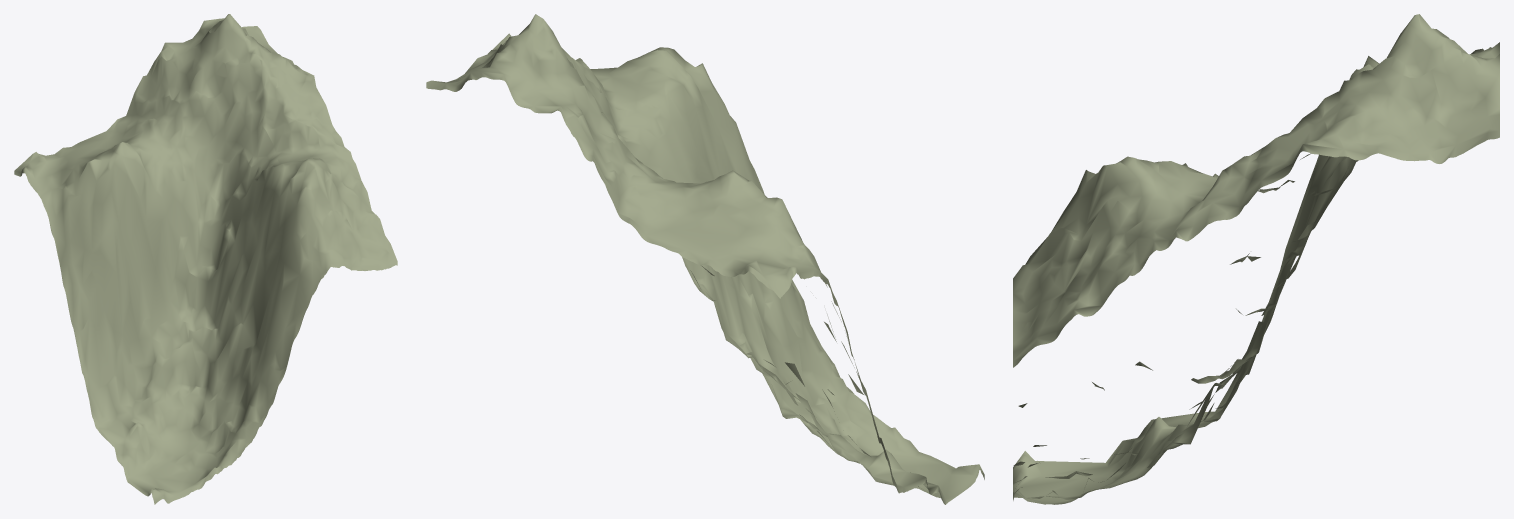
The model's file is terrain_r3_c3_lod1.glb.
The picture shows the model from 3 angles, left to right: view 1: azimuth 30°, elevation 25°; view 2: azimuth 150°, elevation 25°; view 3: azimuth 270°, elevation 25°; orthographic projection. The views are drawn at different scales.
Parts seen in each view (by area): view 1: terrain_r3_c3_lod1; view 2: terrain_r3_c3_lod1; view 3: terrain_r3_c3_lod1.
Part boxes in pixels (box(x1,y1,x2,y2)): terrain_r3_c3_lod1: box(14, 14, 397, 504); terrain_r3_c3_lod1: box(426, 14, 984, 504); terrain_r3_c3_lod1: box(1013, 14, 1499, 504).
Bounding box in the file's own units: 50 × 70.98 × 50.
